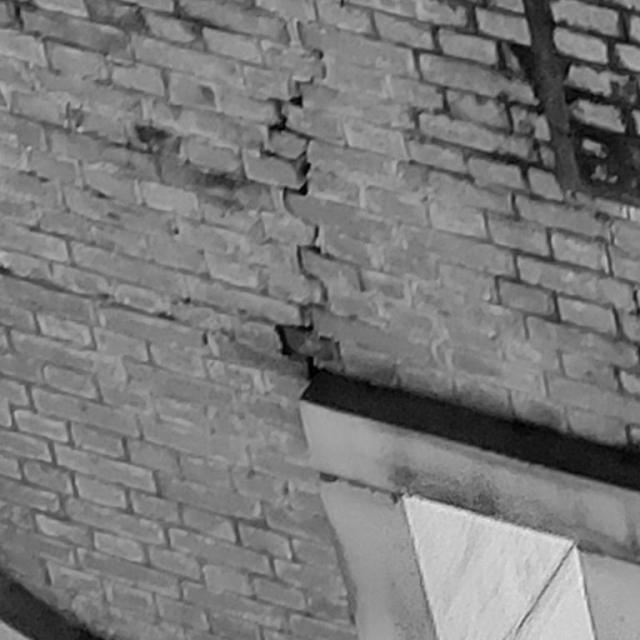crack: (259, 48, 326, 382)
